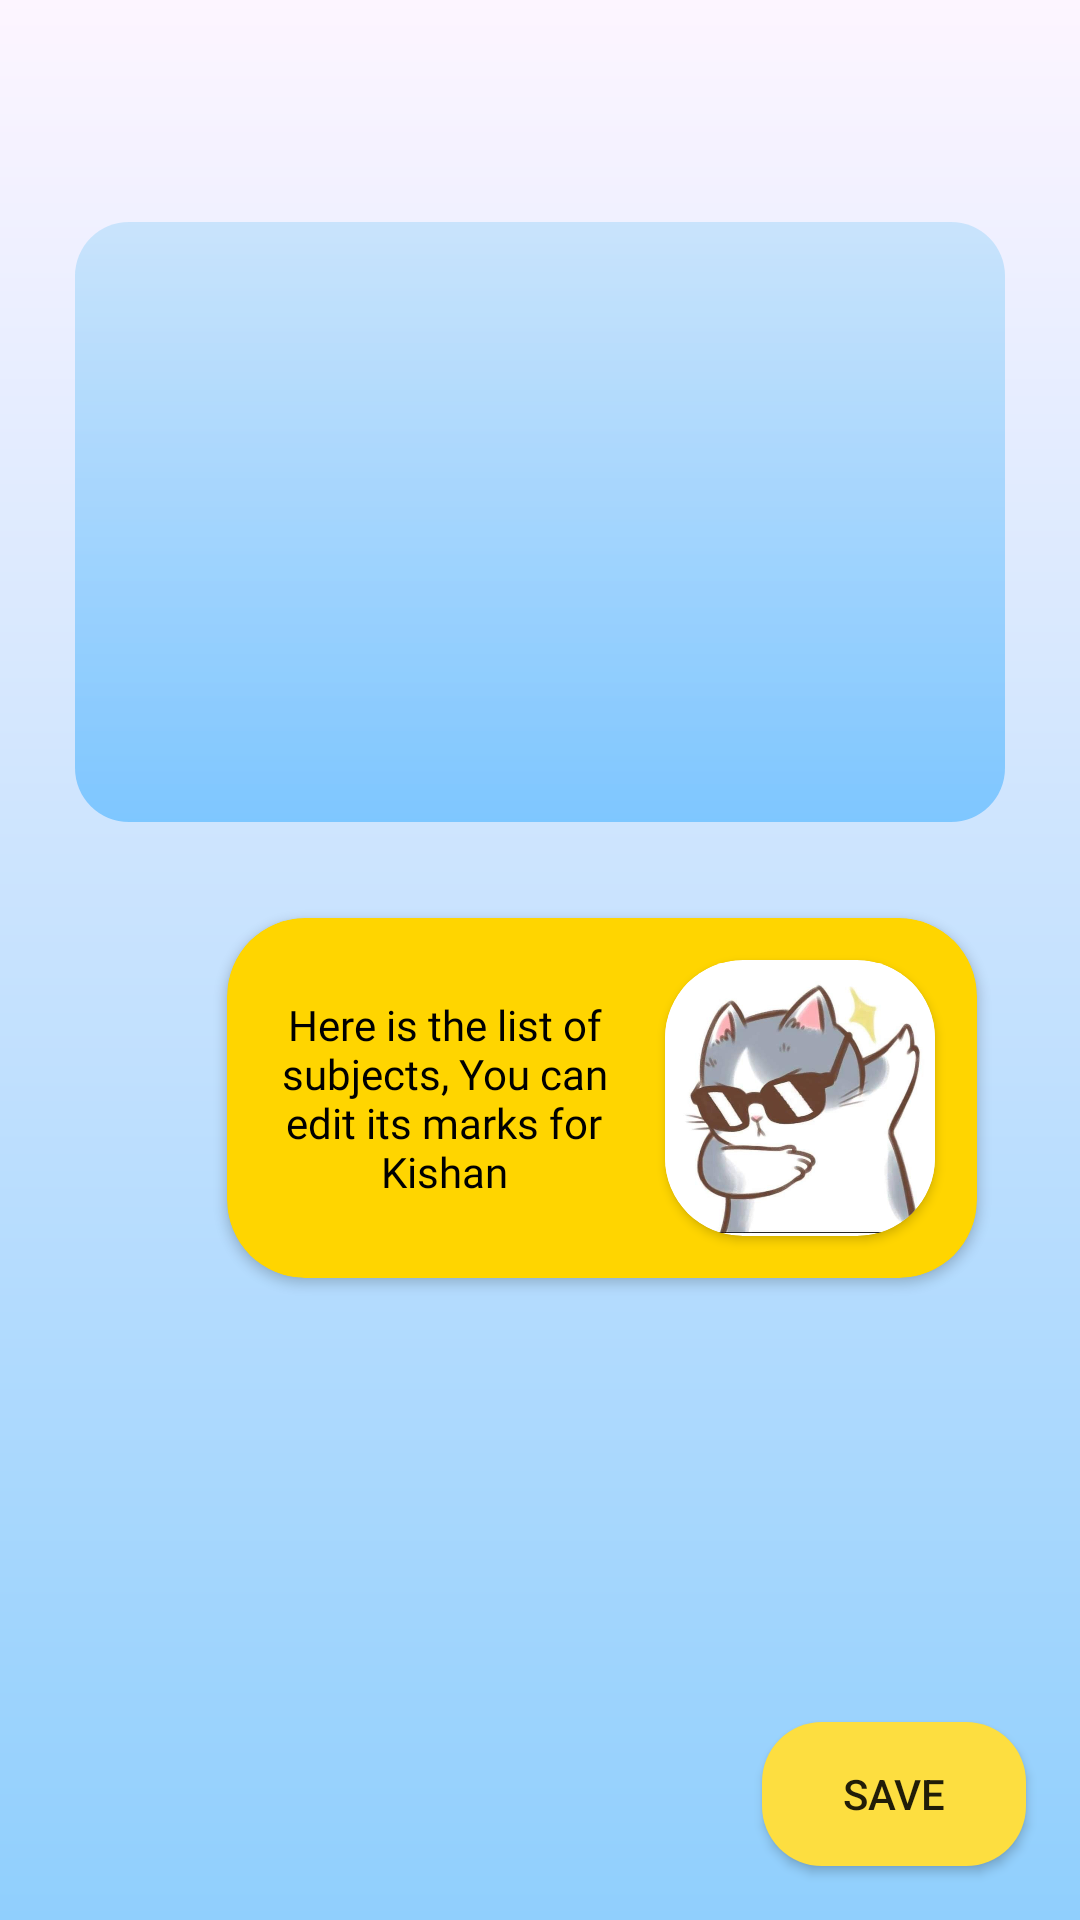

Icons on this 1080*1920 Android screen, each with its box as (x1,y1,x2,y2):
cat: (665,960,935,1236)
